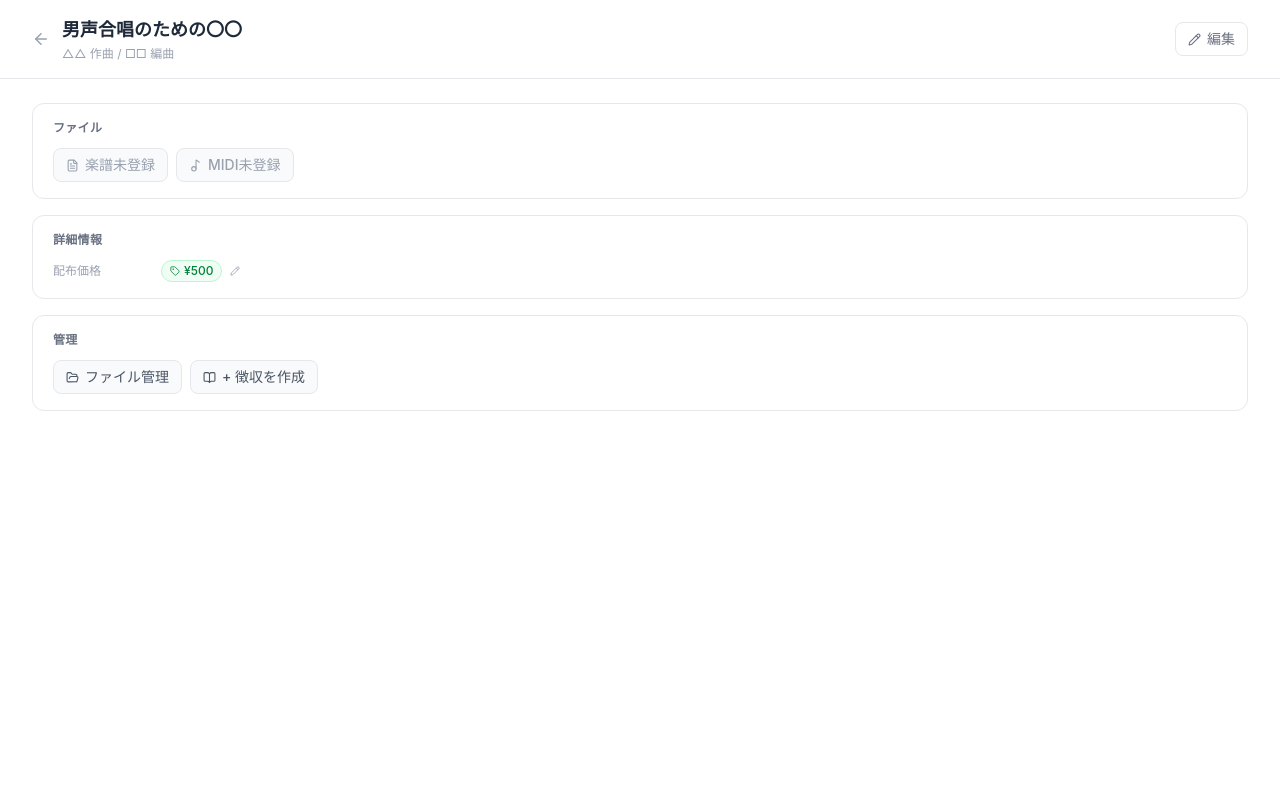
it: ScoreDetailPage（管理セクション） › ほかの人が先に作っていて 409 が返ったら、理由を出し、閉じると「徴収作成済み」に変わる
Click the button "+ 徴収を作成": (254, 377) [190,360,318,394]
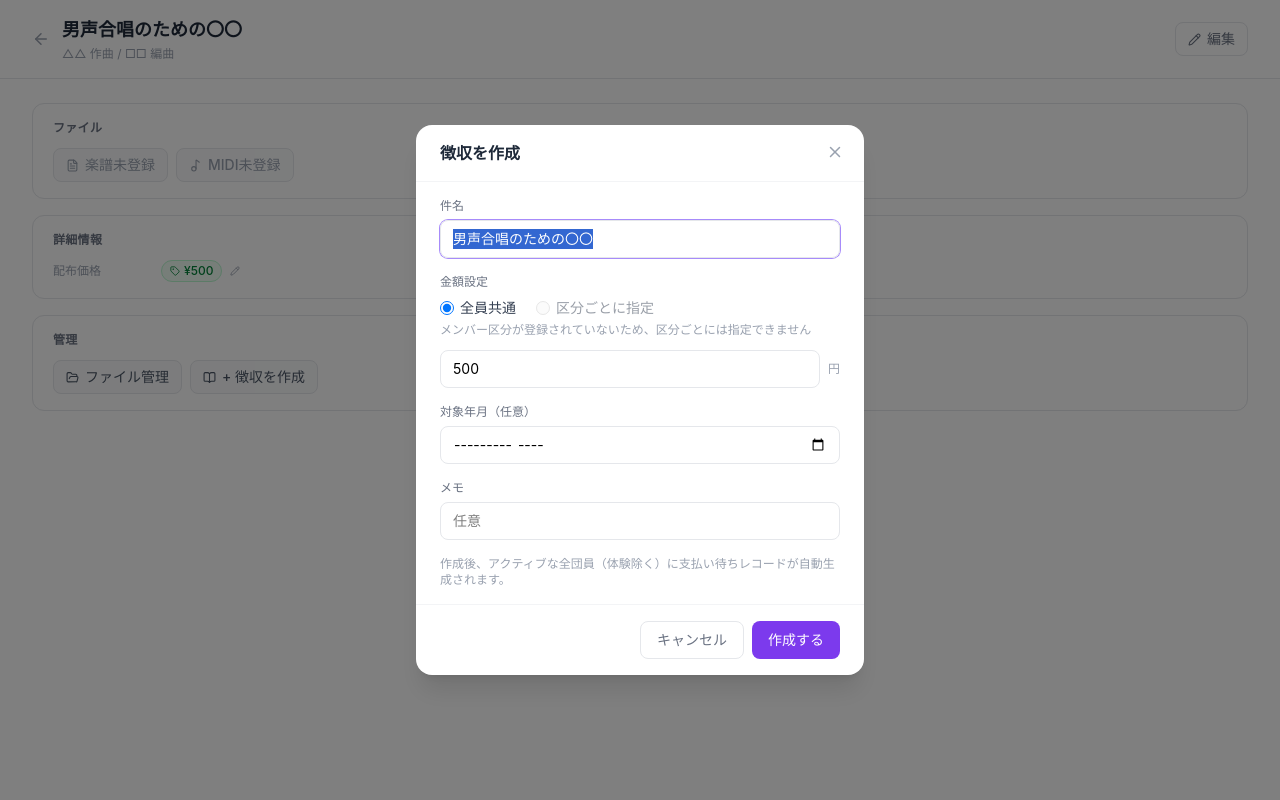
Click the button "作成する": (796, 640) [752,621,840,659]
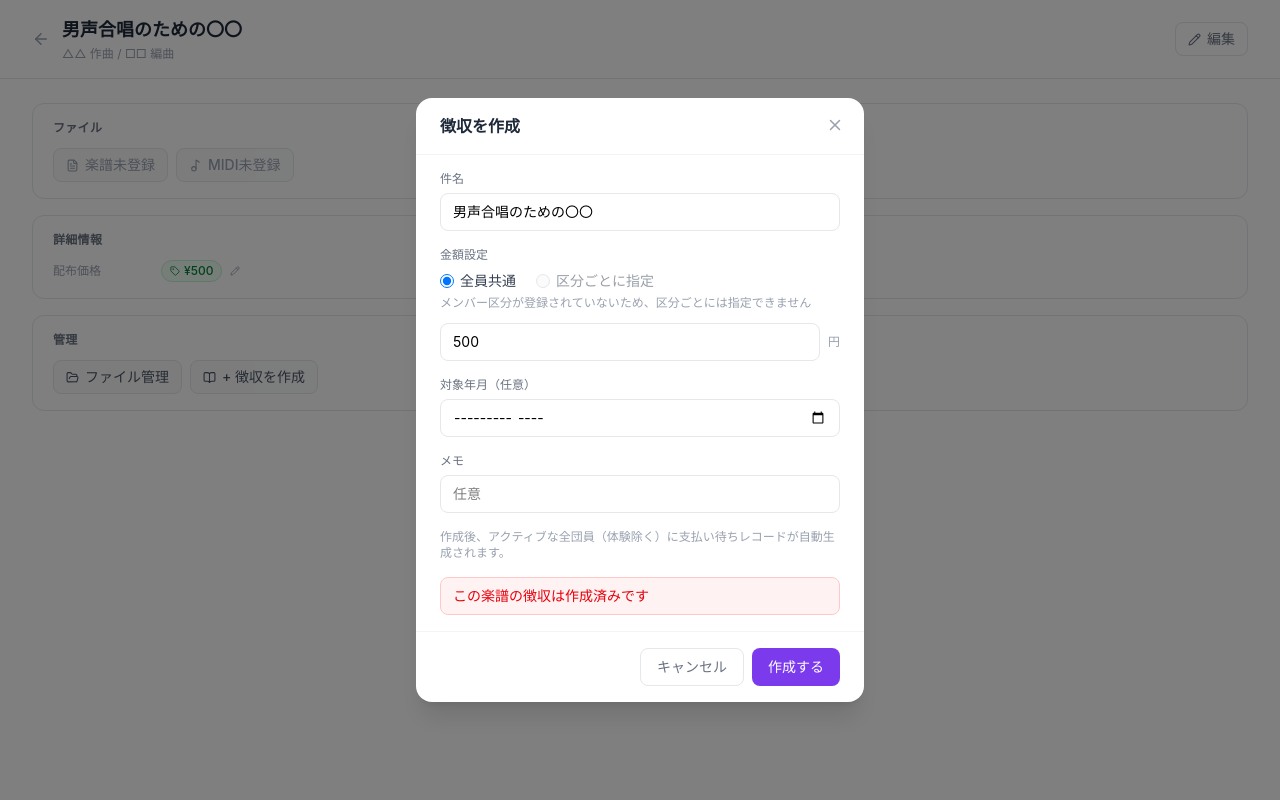
Result: the message reads "この楽譜の徴収は作成済みです" at [453,587,649,604]
Click the button "キャンセル": (692, 667) [640,648,744,686]
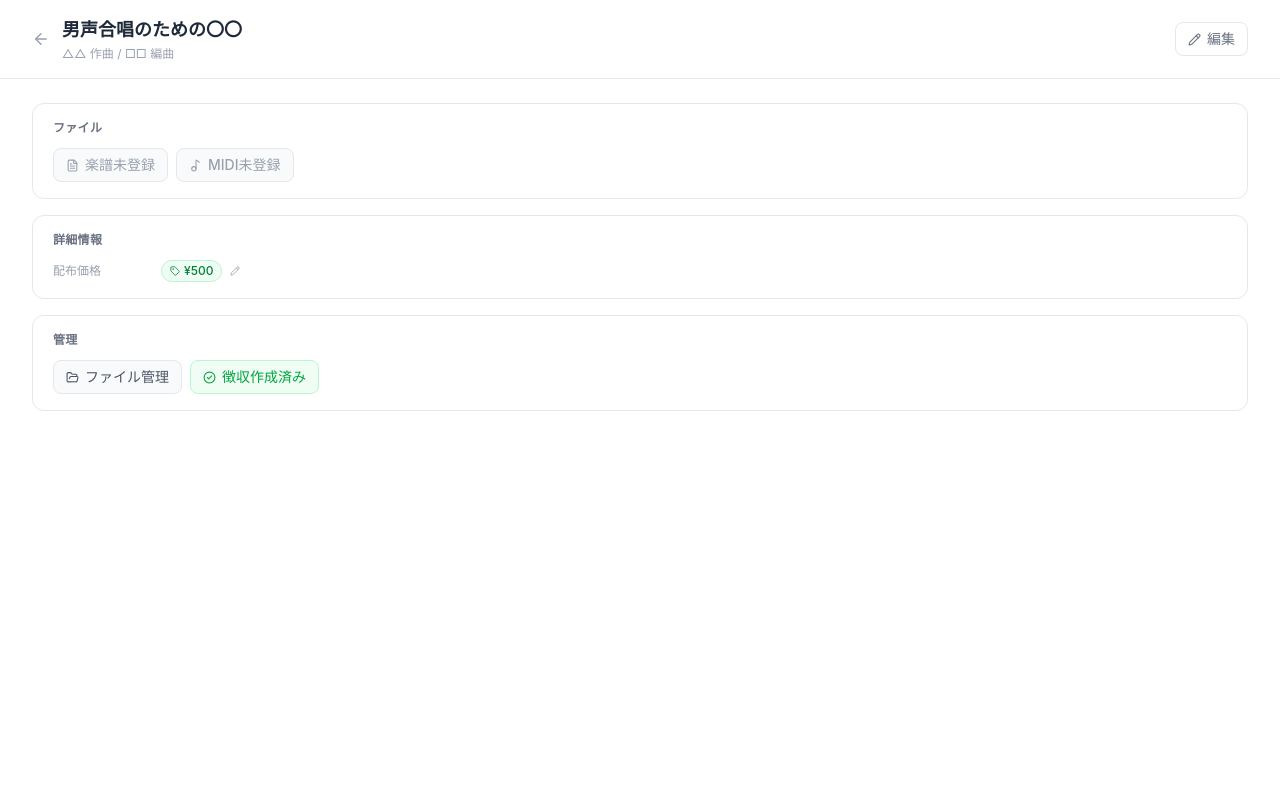
Result: the text "徴収作成済み" is shown at [190,360,319,394]
Result: the button "+ 徴収を作成" is gone
